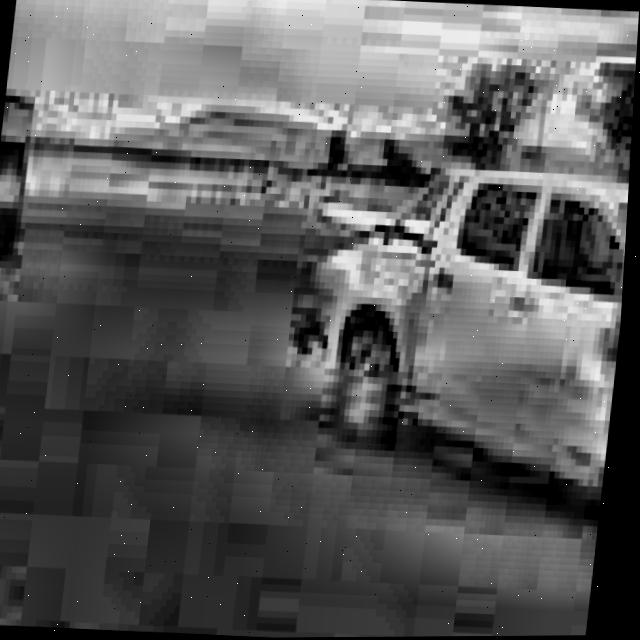light_vehicle: (205, 85, 636, 639)
